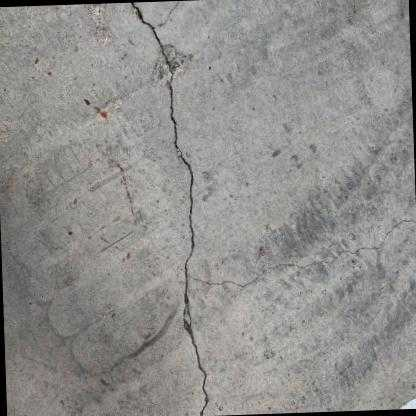crack: (131, 2, 209, 416)
